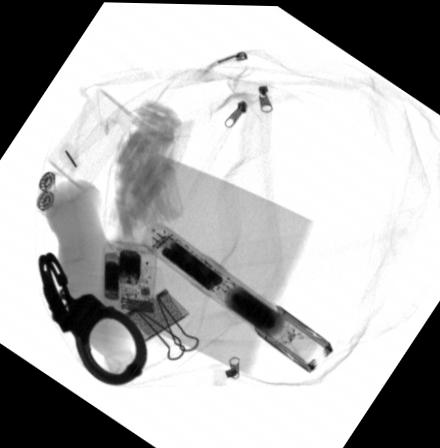Baton: (138, 220, 335, 373)
HandCuffs: (36, 249, 148, 386)
